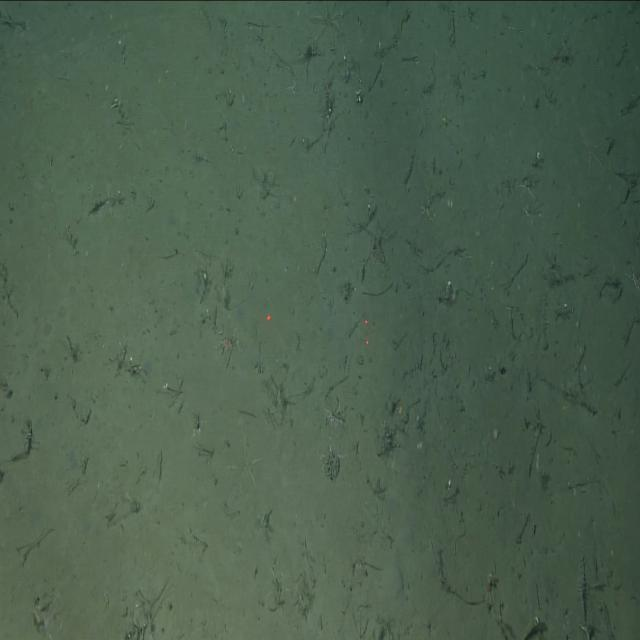Brittle Star: (225, 430, 266, 496), (573, 122, 610, 180), (212, 323, 242, 369), (321, 393, 349, 434)
Not Brittle Star: (308, 1, 348, 54), (318, 444, 344, 485)
